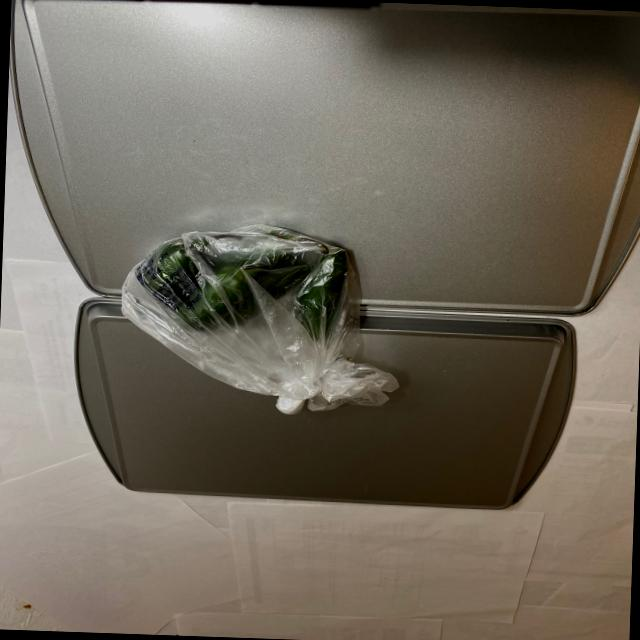chilli: (108, 226, 410, 412)
